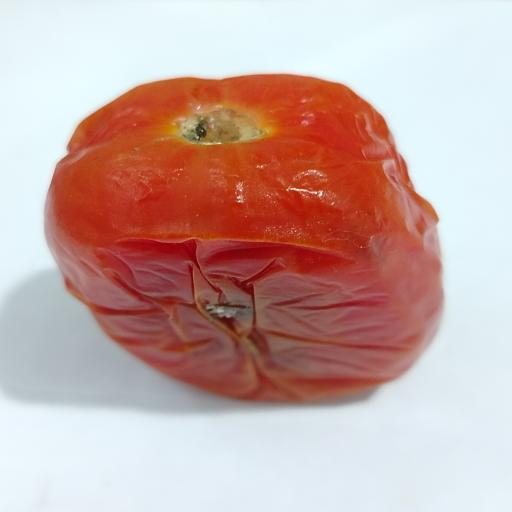spoiled: (45, 75, 442, 401)
